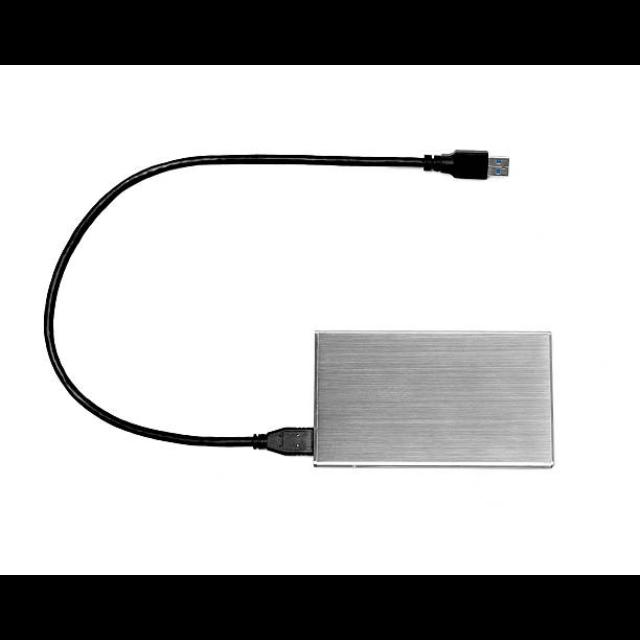HDD: (306, 330, 557, 472)
